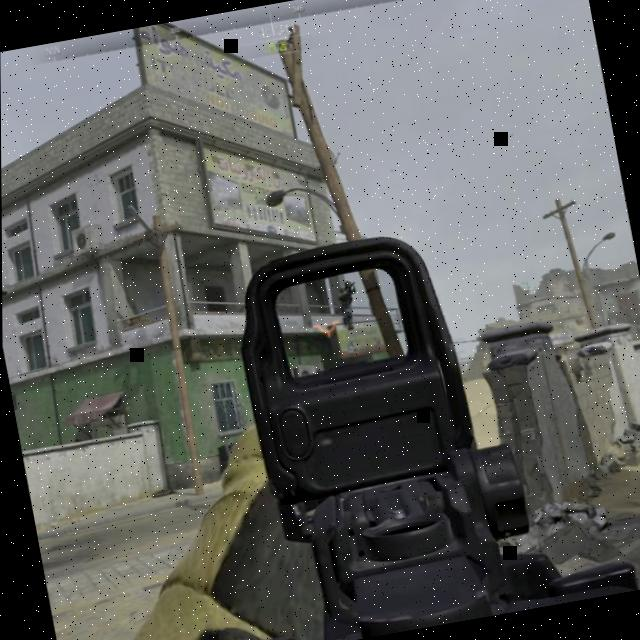MW2_body: (334, 278, 364, 330)
